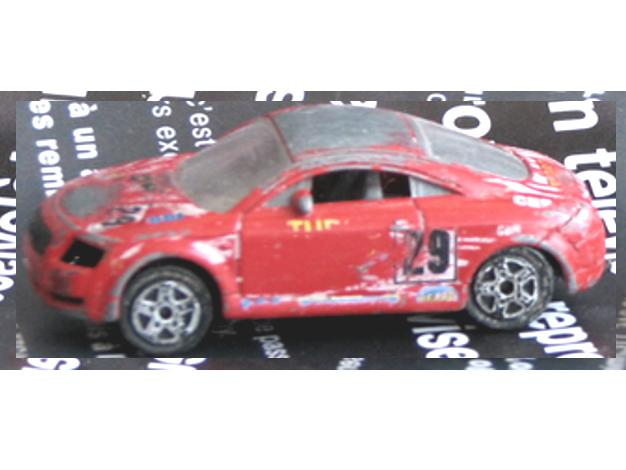toy-car: (16, 101, 616, 358)
